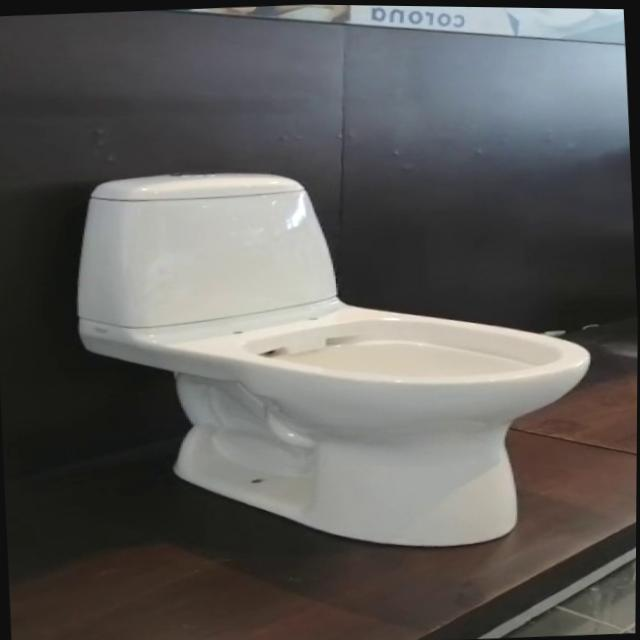toilet: (69, 148, 605, 565)
